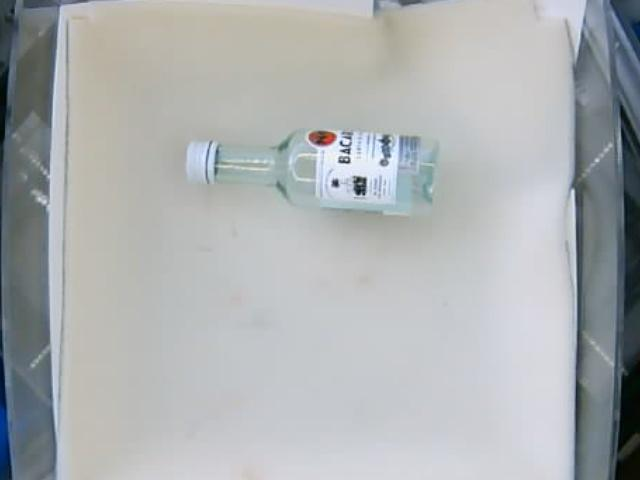Bottle: (184, 128, 439, 218)
